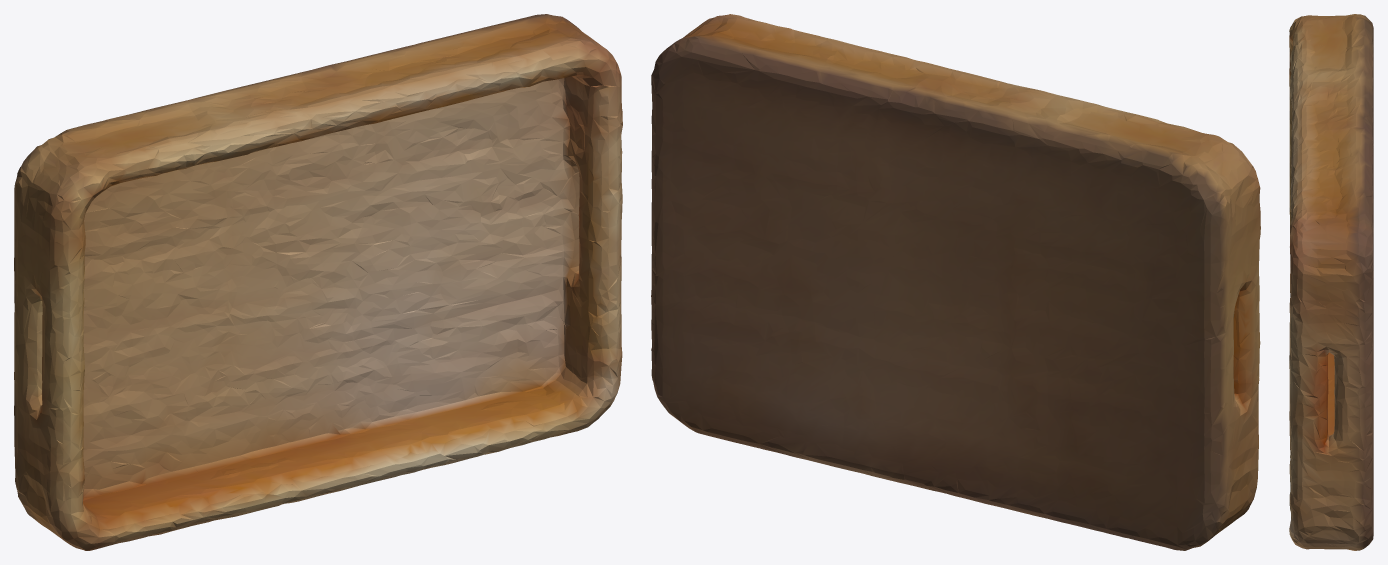
Rendered from tray_1.glb.
3 views of the same model, side by side, from view 1: azimuth 30°, elevation 25°; view 2: azimuth 150°, elevation 25°; view 3: azimuth 270°, elevation 25° (orthographic). The views are drawn at different scales.
Visible parts, largest first — view 1: geometry_0; view 2: geometry_0; view 3: geometry_0.
Part boxes in pixels (<box>): geometry_0: <box>14,14,622,550</box>; geometry_0: <box>651,14,1260,550</box>; geometry_0: <box>1289,14,1373,550</box>.
Size of the model in its own units: 1 by 0.6559 by 0.1504.
